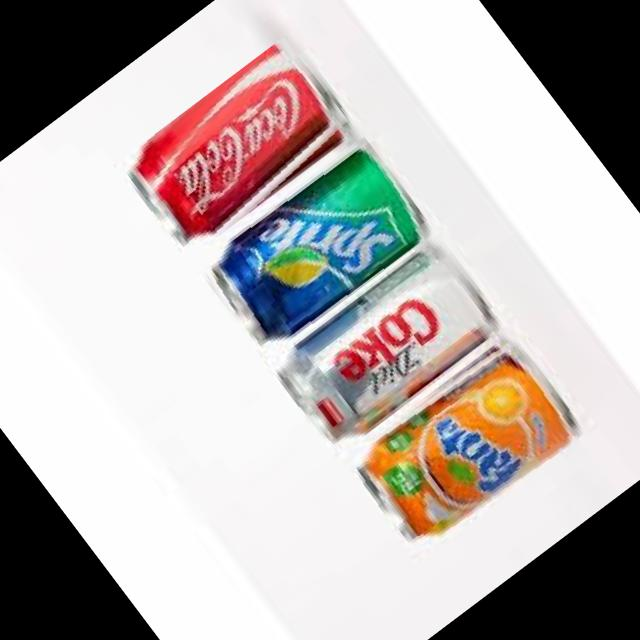Cans: (328, 327, 586, 566), (184, 131, 436, 364), (260, 229, 511, 462), (112, 35, 362, 267)
